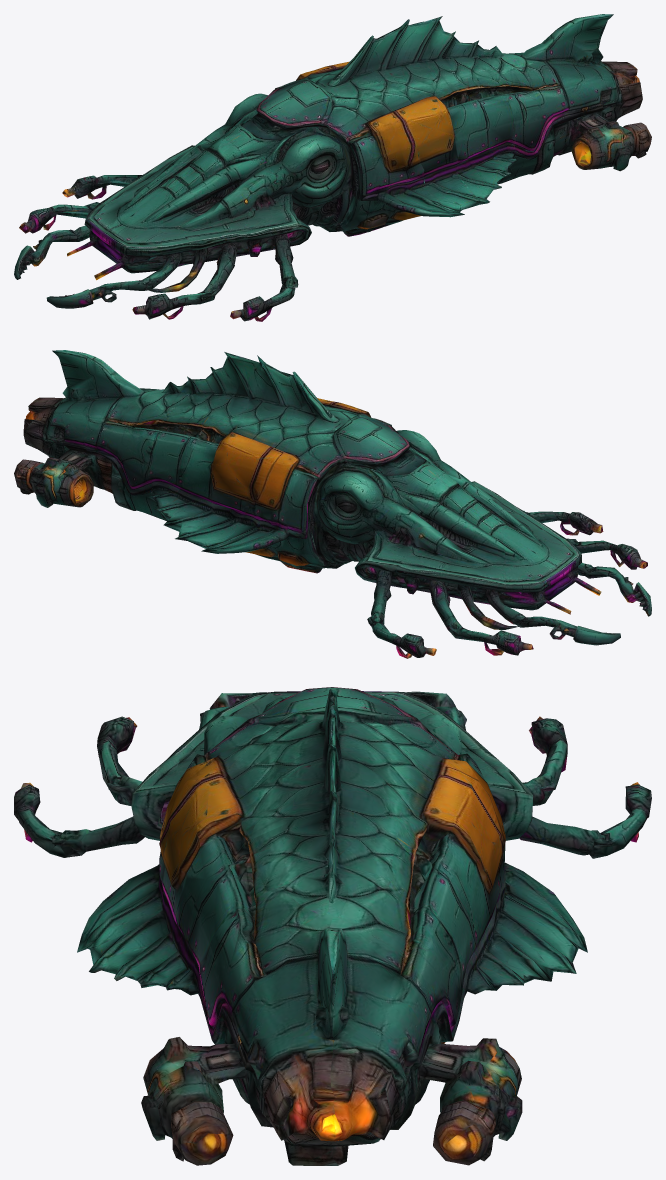
Rendered from Aquarii_ResearchShip.glb.
The picture shows the model from 3 angles, top to bottom: view 1: azimuth 30°, elevation 25°; view 2: azimuth 150°, elevation 25°; view 3: azimuth 270°, elevation 25°; orthographic projection. The views are drawn at different scales.
Size of the model in its own units: 1.9 by 0.5851 by 0.9505.
Materials: 1 (1 with a texture image).
